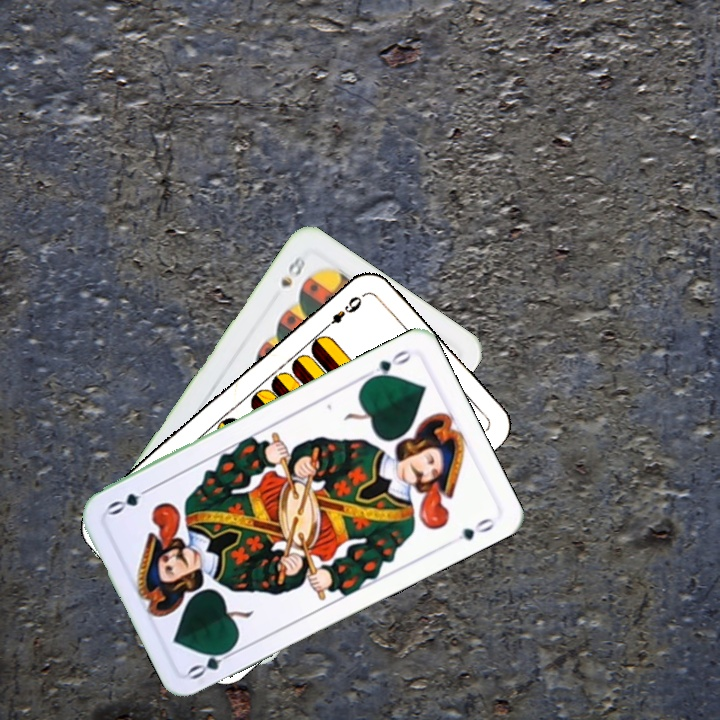E9: (319, 290, 368, 333)
GO: (184, 641, 241, 682), (360, 345, 414, 384)
S8: (276, 252, 308, 290)
